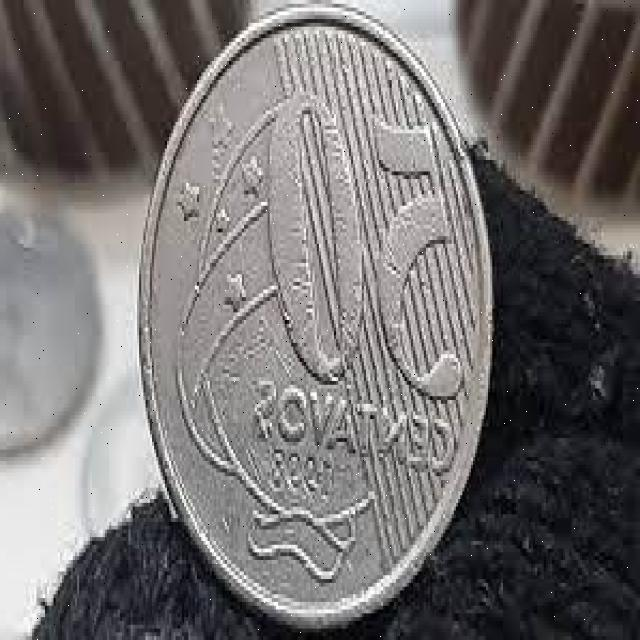50 cent: (146, 8, 490, 634)
